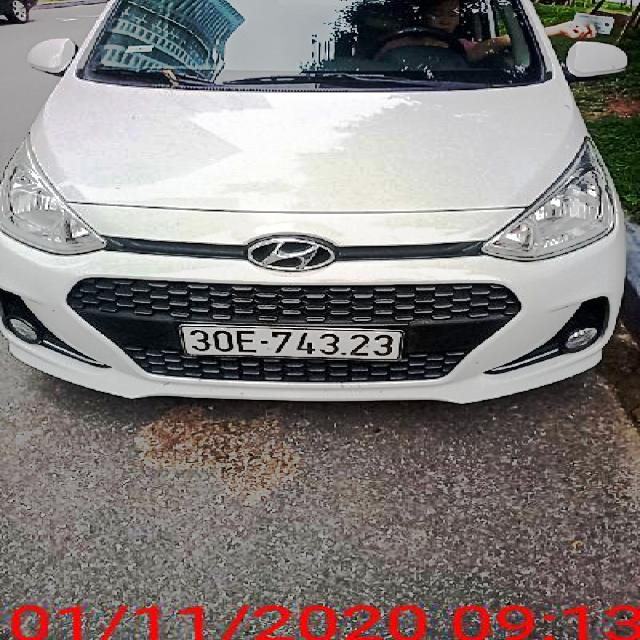license_plate: (184, 326, 402, 362)
